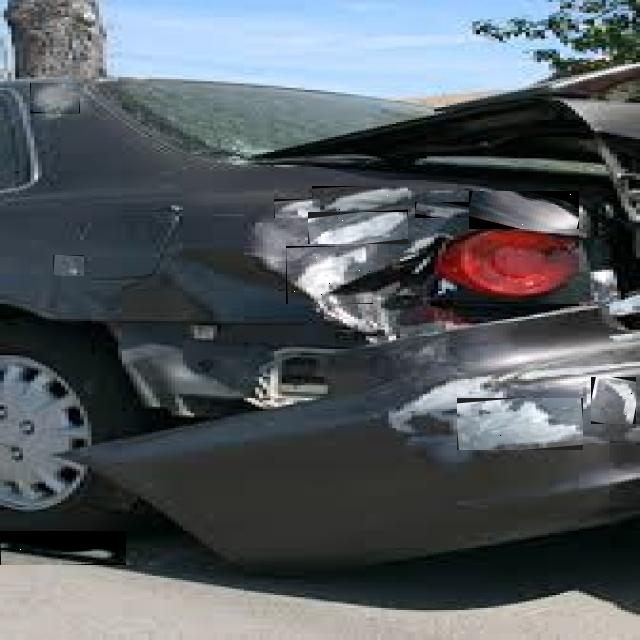Dent: (457, 398, 583, 450), (286, 246, 373, 304), (0, 531, 126, 565), (469, 191, 579, 229), (308, 212, 408, 244), (312, 186, 408, 212), (591, 377, 636, 424), (30, 84, 80, 115), (274, 199, 320, 218), (415, 202, 469, 218), (53, 255, 84, 276)
